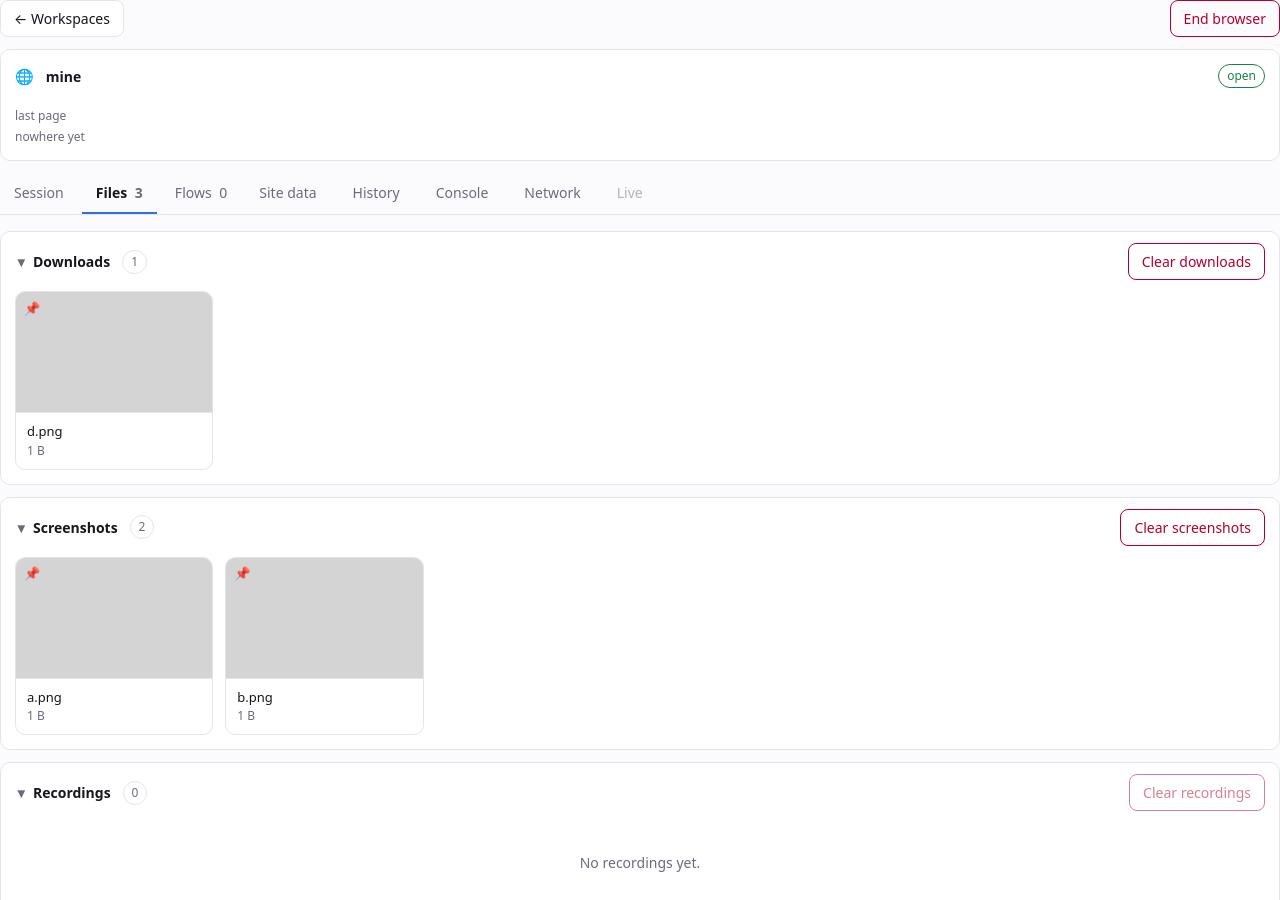
Test case: a confirm that lands after its box was dropped does not close the box that replaced it (M1, F8)
Click the button with id "clearDownloads": (1196, 262) 1128,243 -> 1265,280
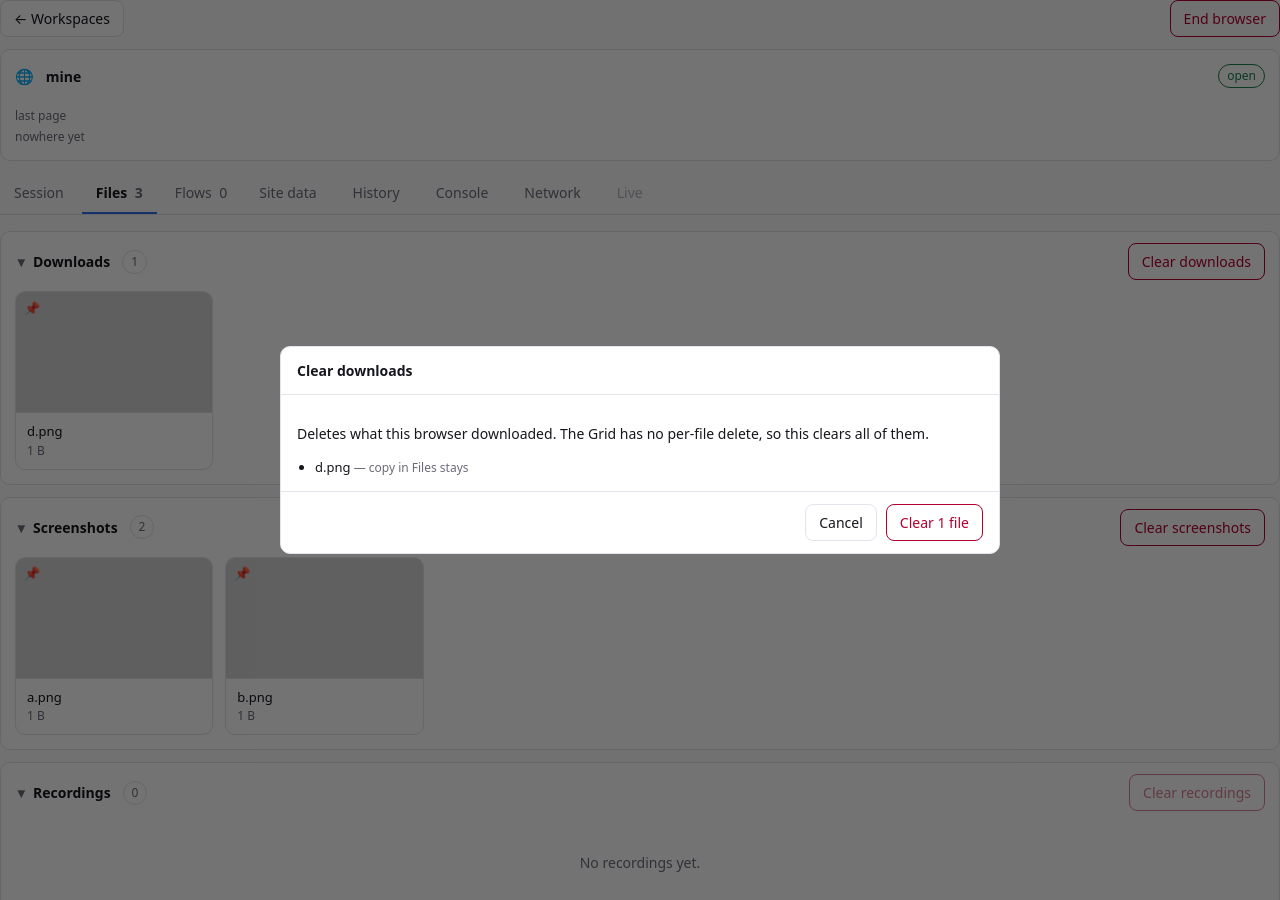
Click the button "Clear 1 file": (934, 523) 886,504 -> 983,541
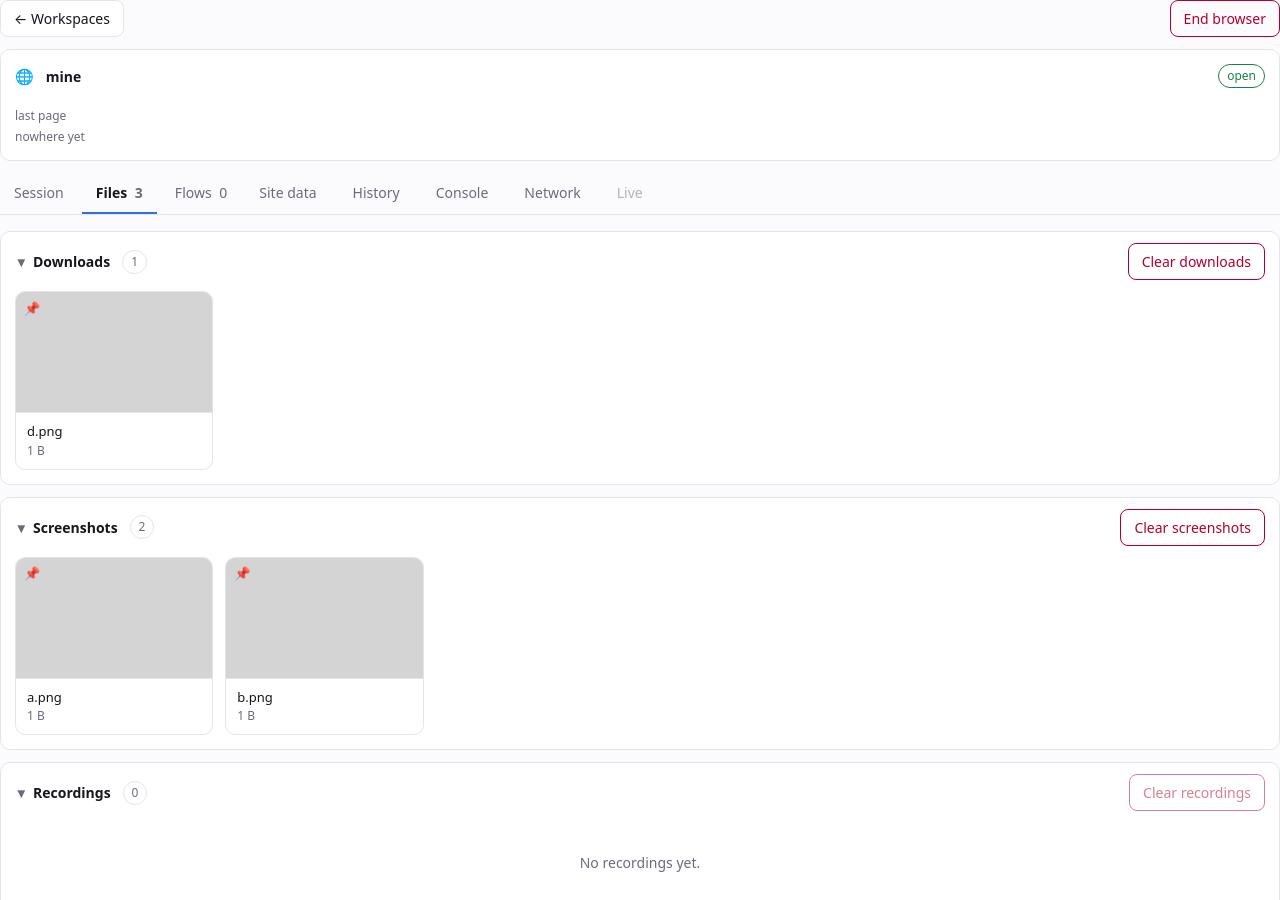
Result: the element with class "modal" is gone
Click the button with id "clearScreenshots": (1193, 527) 1120,508 -> 1265,546
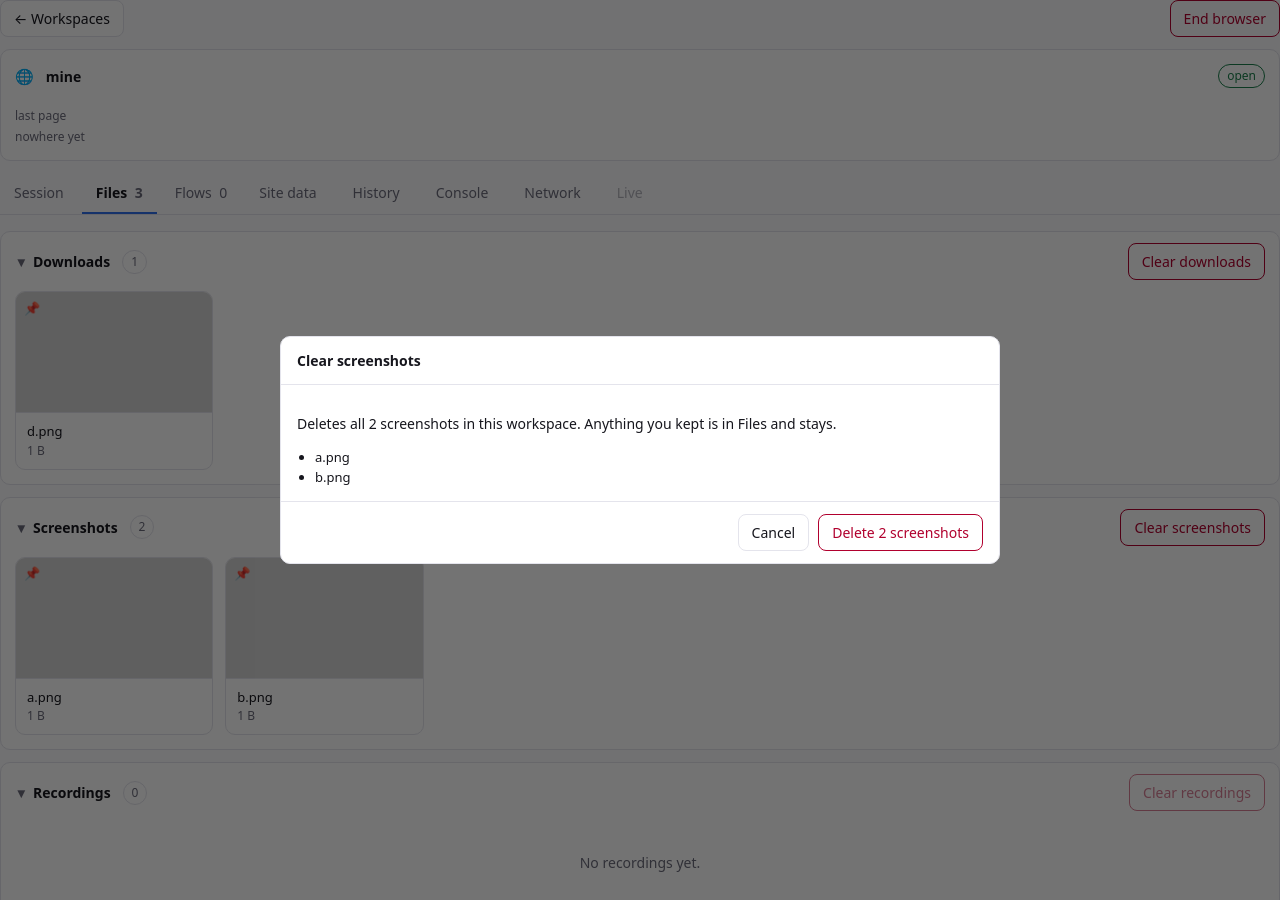
Result: the element with class "modal" shows "Deletes all 2 screenshots in this workspace." at 297,414 -> 836,433
Result: the button "Delete 2 screenshots" is enabled at 818,514 -> 983,551
